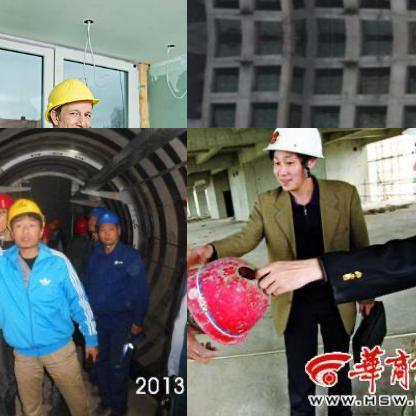Helmet: (258, 128, 328, 194), (41, 67, 100, 127), (2, 191, 46, 249), (91, 203, 122, 245), (0, 190, 13, 235), (85, 206, 105, 232), (72, 213, 86, 239)
